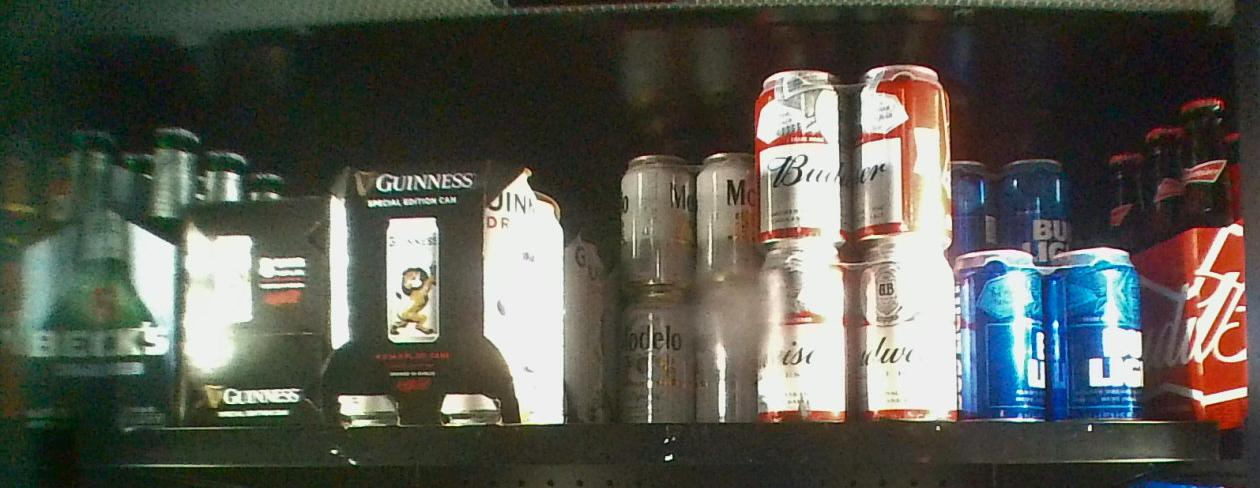bottle: (750, 68, 952, 422), (339, 166, 547, 424), (20, 124, 179, 430), (618, 156, 756, 424), (180, 195, 329, 430), (962, 251, 1147, 421)
